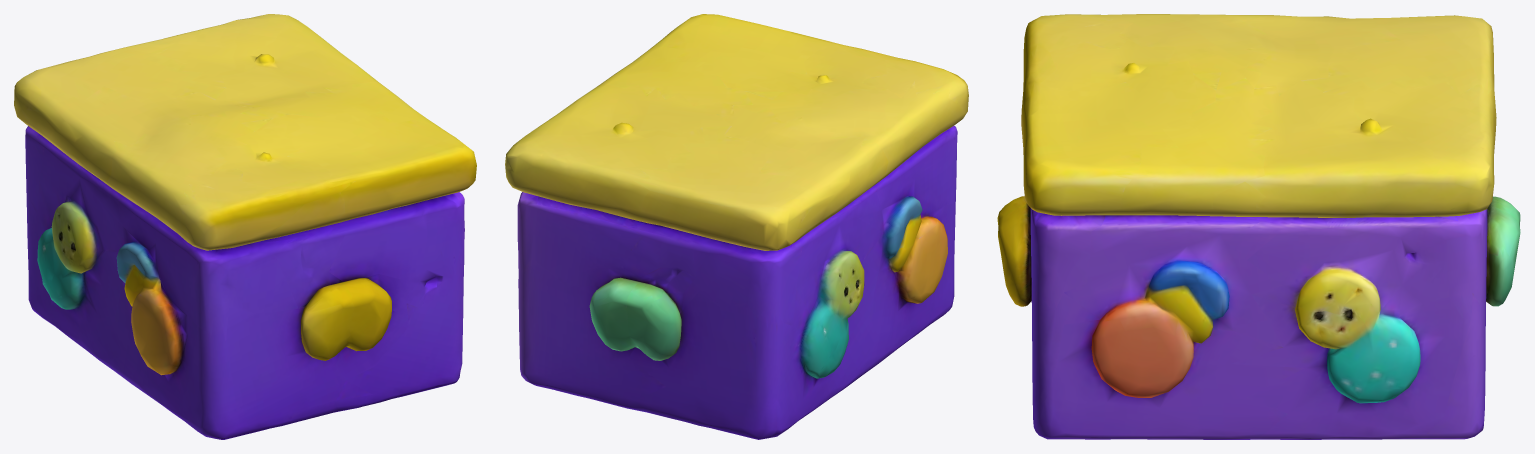
The model's file is chest.glb.
The picture shows the model from 3 angles, left to right: view 1: azimuth 30°, elevation 25°; view 2: azimuth 150°, elevation 25°; view 3: azimuth 270°, elevation 25°; orthographic projection. The views are drawn at different scales.
Parts seen in each view (by area): view 1: tripo_node_df7b11b4-7c04-4a3c-bf58-a889b34c9127; view 2: tripo_node_df7b11b4-7c04-4a3c-bf58-a889b34c9127; view 3: tripo_node_df7b11b4-7c04-4a3c-bf58-a889b34c9127.
Boxes of the visible parts, x1,y1,x2,y2 form: tripo_node_df7b11b4-7c04-4a3c-bf58-a889b34c9127: (14, 14, 476, 439); tripo_node_df7b11b4-7c04-4a3c-bf58-a889b34c9127: (505, 14, 968, 439); tripo_node_df7b11b4-7c04-4a3c-bf58-a889b34c9127: (997, 14, 1520, 439).
Bounding box in the file's own units: 0.7823 × 0.6153 × 1.
Materials: 1 (1 with a texture image).
